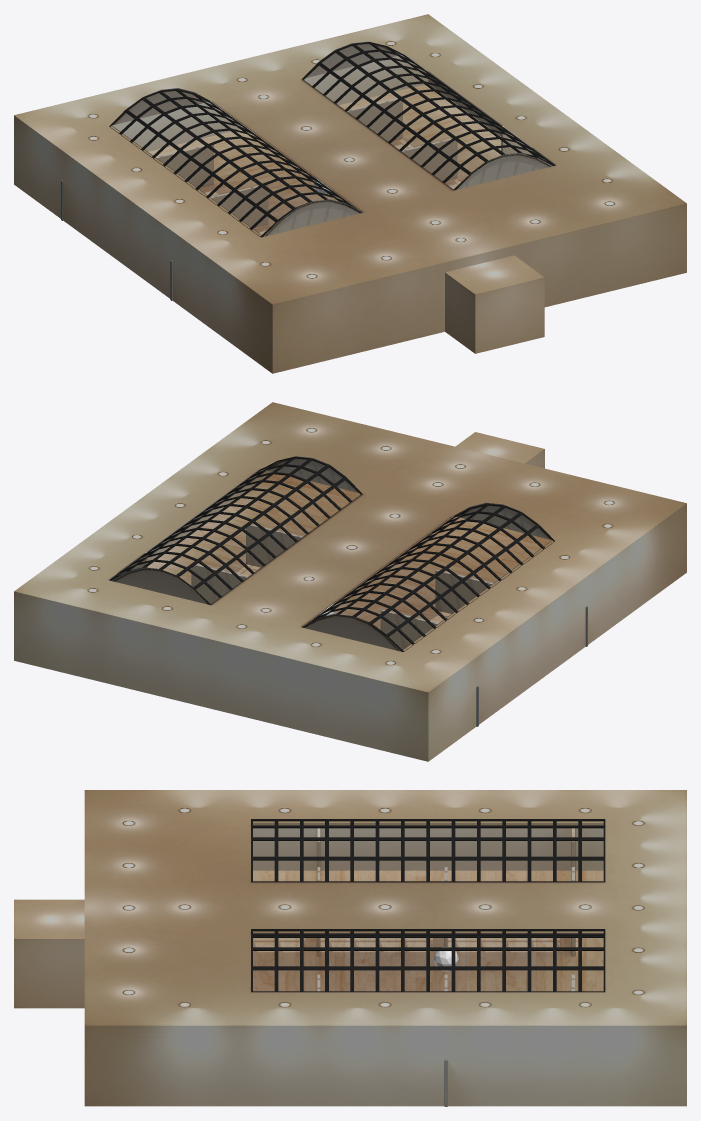
Rendered from ReplaceT.glb.
The picture shows the model from 3 angles, top to bottom: view 1: azimuth 30°, elevation 25°; view 2: azimuth 150°, elevation 25°; view 3: azimuth 270°, elevation 25°; orthographic projection. The views are drawn at different scales.
Parts seen in each view (by area): view 1: Cube_pbr.001, Cube_pbr; view 2: Cube_pbr.001, Cube_pbr; view 3: Cube_pbr.001, Cube_pbr.
Part boxes in pixels (<box>): Cube_pbr.001: <box>14,14,686,373</box>; Cube_pbr: <box>109,42,554,237</box>; Cube_pbr.001: <box>14,402,686,761</box>; Cube_pbr: <box>109,456,554,651</box>; Cube_pbr.001: <box>14,790,686,1106</box>; Cube_pbr: <box>251,819,605,992</box>.
Size of the model in its own units: 44.02 by 9.39 by 52.89.
4 materials, 1 textured.
